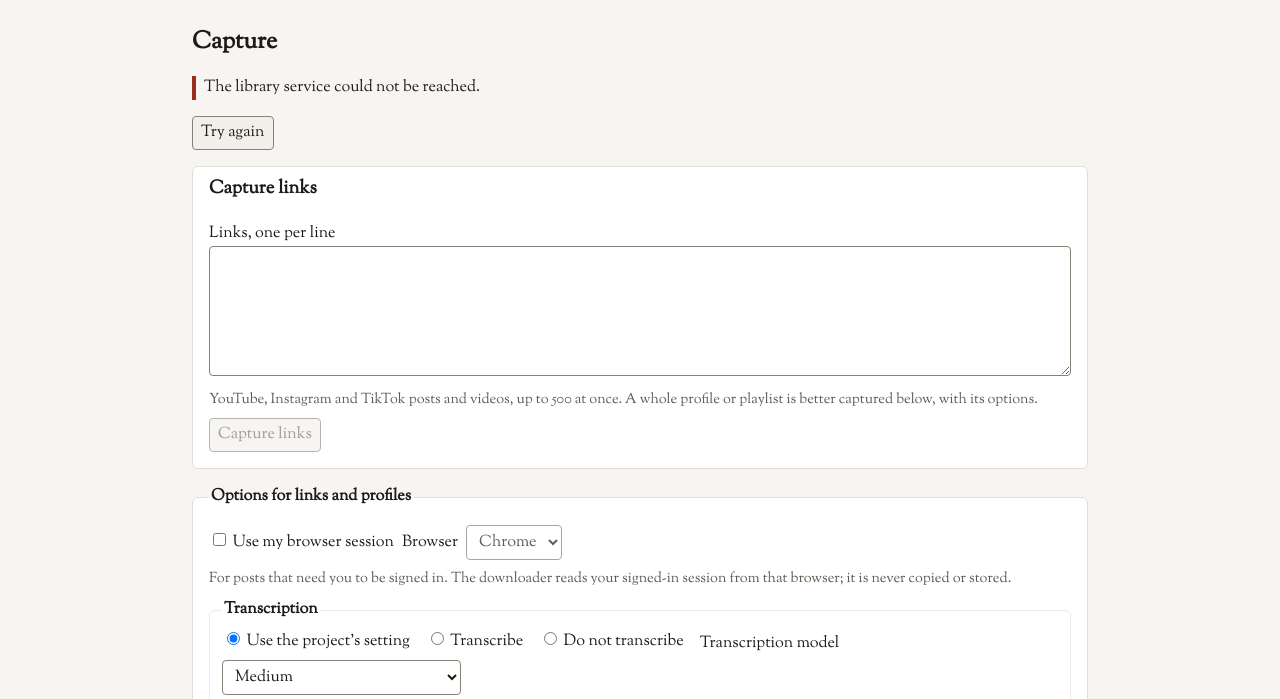
it: Capture: first reads that never settle or fail (FR-756) › one sentence at a time (R602 M1): a project read that failed with no answer and a rules read given up at the limit show “could not be reached” alone, with one “
The image size is (1280, 699).
Step 1. Click the button "Try again" → [233, 133], box x1=192 y1=116 x2=274 y2=150
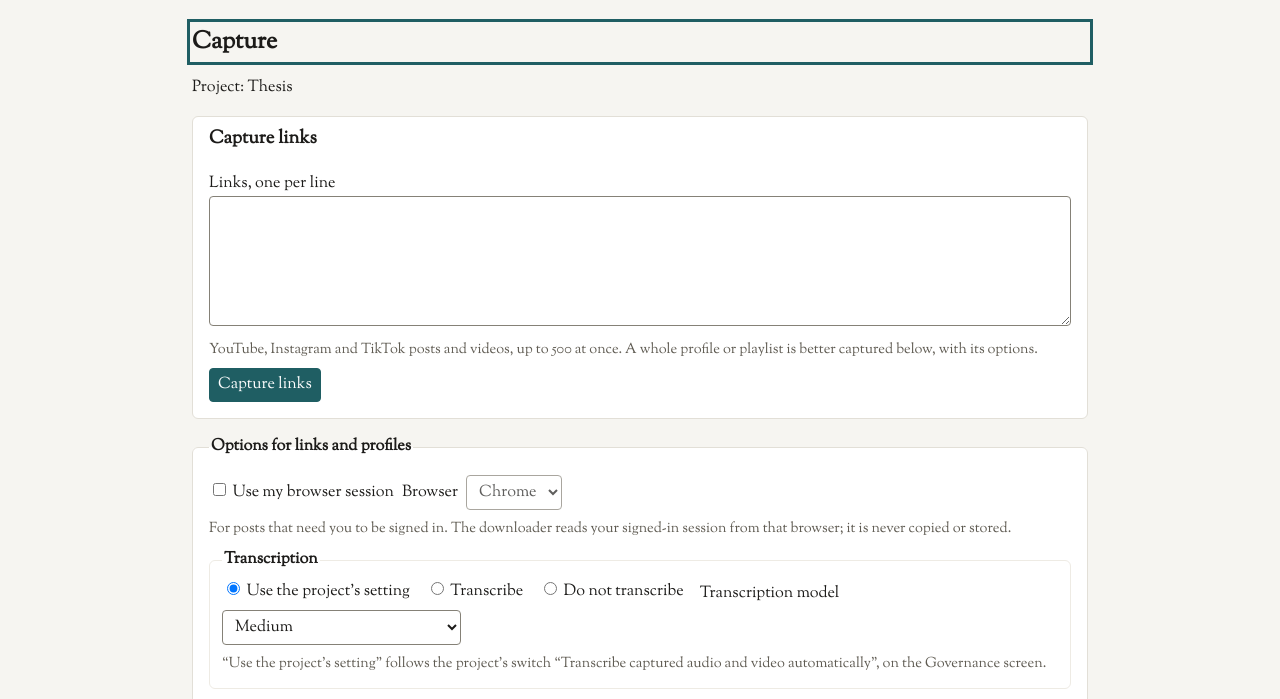
Expected: the text "Thesis" is shown, x1=248 y1=76 x2=293 y2=99
